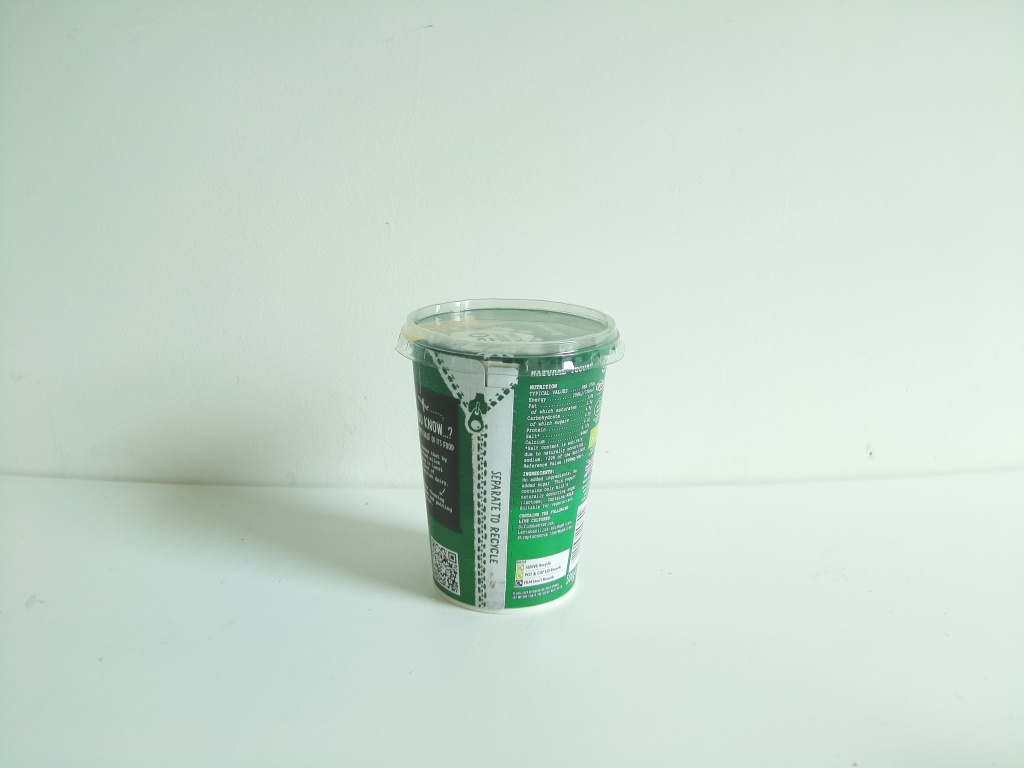yogurt: (387, 291, 626, 621)
